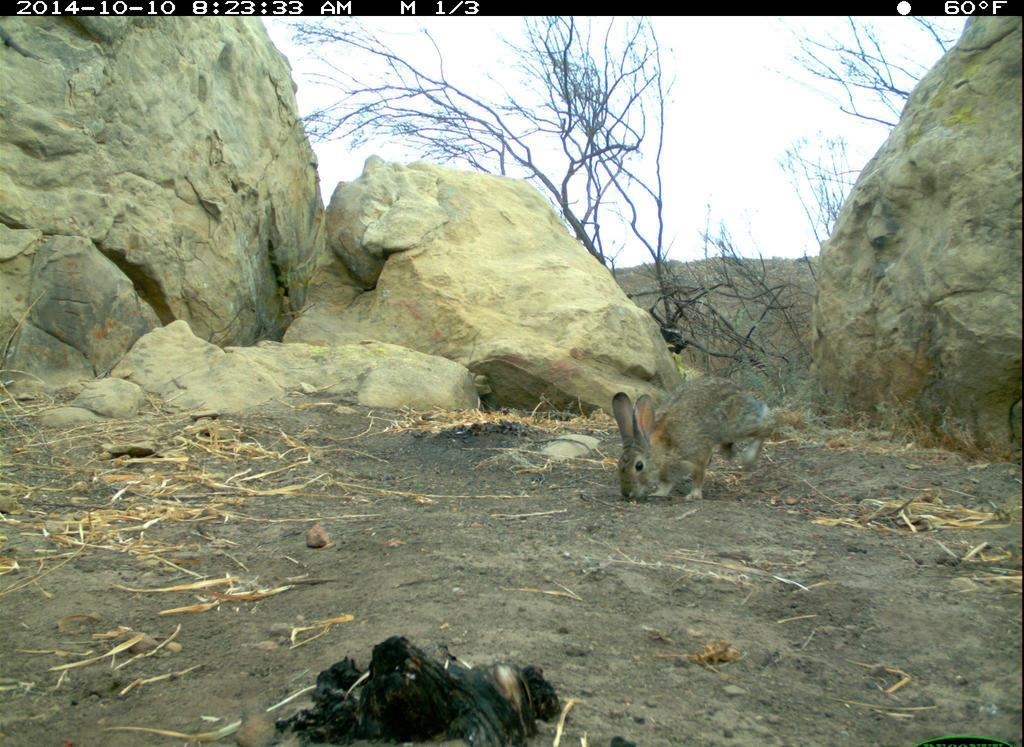rabbit: (600, 373, 780, 511)
